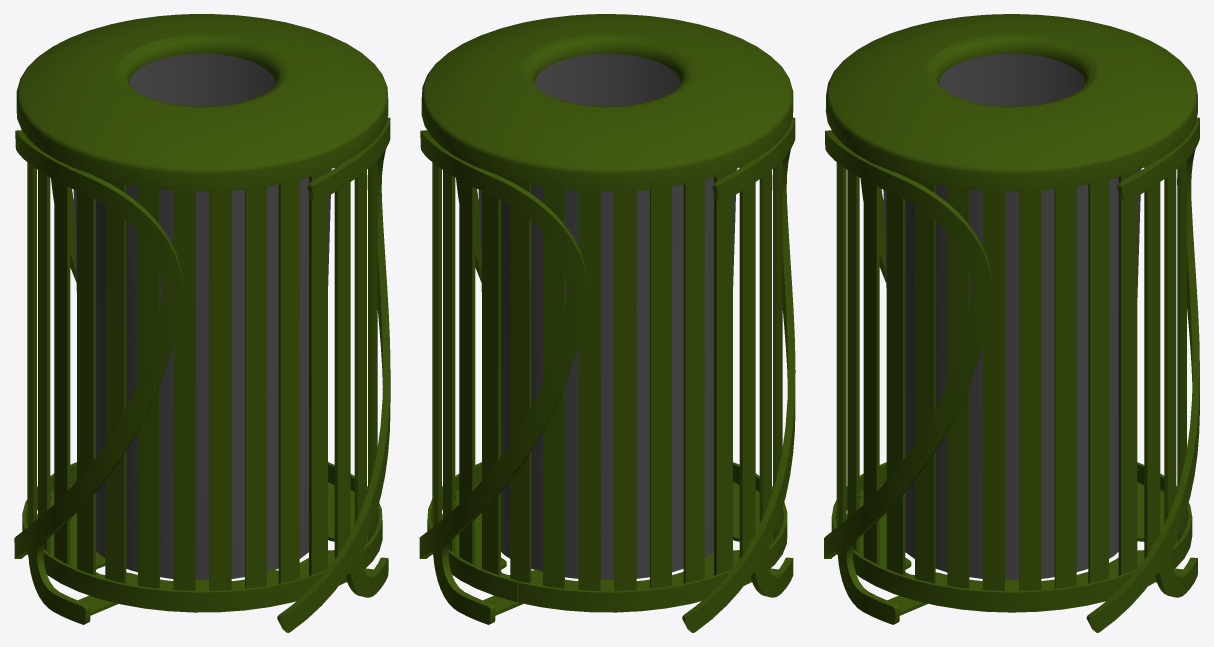
3 views of the same model, side by side, from view 1: azimuth 30°, elevation 25°; view 2: azimuth 150°, elevation 25°; view 3: azimuth 270°, elevation 25° (orthographic).
Visible parts, largest first — view 1: mesh40_mesh40-geometry, mesh1_mesh1-geometry, mesh10_mesh10-geometry, mesh37_mesh37-geometry, mesh35_mesh35-geometry, mesh19_mesh19-geometry; view 2: mesh40_mesh40-geometry, mesh1_mesh1-geometry, mesh10_mesh10-geometry, mesh37_mesh37-geometry, mesh35_mesh35-geometry, mesh19_mesh19-geometry; view 3: mesh40_mesh40-geometry, mesh1_mesh1-geometry, mesh10_mesh10-geometry, mesh37_mesh37-geometry, mesh35_mesh35-geometry, mesh19_mesh19-geometry.
Boxes of the visible parts, box(x1,y1,x2,y2) form: mesh40_mesh40-geometry: box(27, 160, 377, 590); mesh1_mesh1-geometry: box(16, 14, 388, 189); mesh10_mesh10-geometry: box(73, 53, 331, 579); mesh37_mesh37-geometry: box(14, 117, 390, 632); mesh35_mesh35-geometry: box(22, 162, 382, 612); mesh19_mesh19-geometry: box(37, 482, 367, 590); mesh40_mesh40-geometry: box(432, 160, 782, 590); mesh1_mesh1-geometry: box(421, 14, 793, 189); mesh10_mesh10-geometry: box(478, 53, 736, 579); mesh37_mesh37-geometry: box(419, 117, 795, 632); mesh35_mesh35-geometry: box(427, 162, 787, 612); mesh19_mesh19-geometry: box(442, 482, 772, 590); mesh40_mesh40-geometry: box(836, 160, 1186, 590); mesh1_mesh1-geometry: box(825, 14, 1197, 189); mesh10_mesh10-geometry: box(883, 53, 1141, 579); mesh37_mesh37-geometry: box(824, 117, 1199, 632); mesh35_mesh35-geometry: box(831, 163, 1192, 612); mesh19_mesh19-geometry: box(846, 482, 1177, 590).
Bounding box in the file's own units: 0.4937 × 0.7149 × 0.4951.
